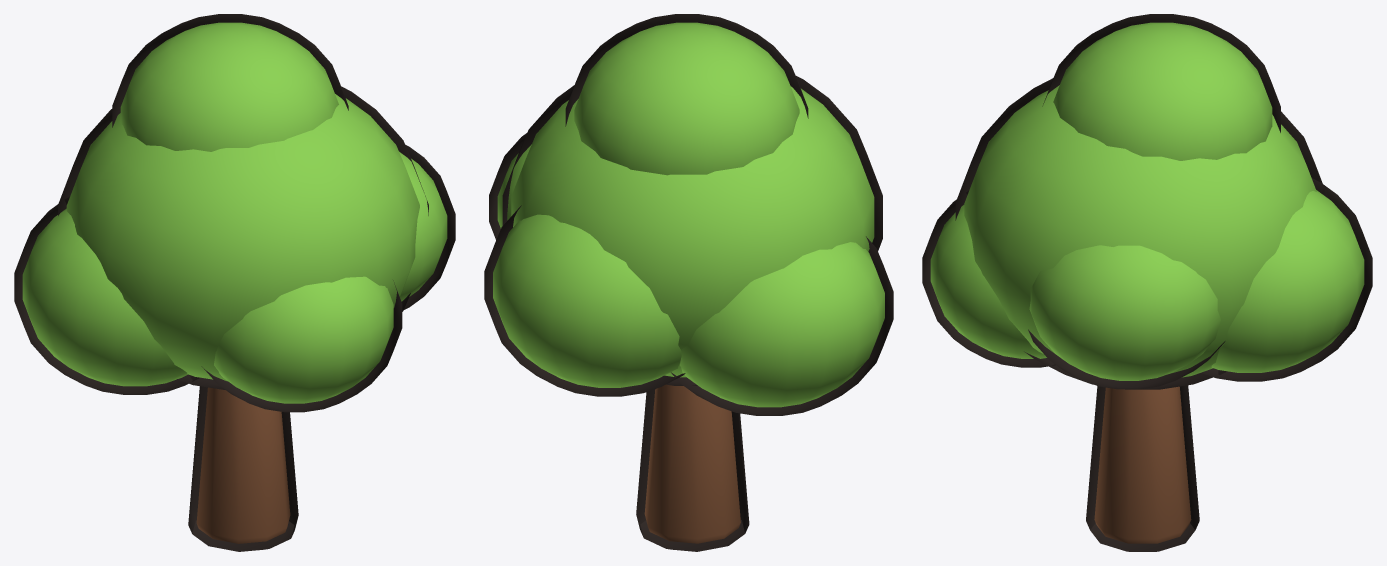
The model's file is Tree_Round_Light.fbx.
3 renders of one model, left to right at view 1: azimuth 30°, elevation 25°; view 2: azimuth 150°, elevation 25°; view 3: azimuth 270°, elevation 25°, orthographic. The views are drawn at different scales.
Visible parts, largest first — view 1: PR_Tree_Round_Light_Leaf2, PR_Tree_Round_Light_Outline, PR_Tree_Round_Light_Trunk; view 2: PR_Tree_Round_Light_Leaf2, PR_Tree_Round_Light_Outline, PR_Tree_Round_Light_Trunk; view 3: PR_Tree_Round_Light_Leaf2, PR_Tree_Round_Light_Outline, PR_Tree_Round_Light_Trunk.
Boxes of the visible parts, box(x1,y1,x2,y2) form: PR_Tree_Round_Light_Leaf2: box(22, 22, 447, 403); PR_Tree_Round_Light_Outline: box(14, 14, 455, 551); PR_Tree_Round_Light_Trunk: box(196, 387, 290, 543); PR_Tree_Round_Light_Leaf2: box(493, 22, 884, 407); PR_Tree_Round_Light_Outline: box(484, 14, 893, 551); PR_Tree_Round_Light_Trunk: box(644, 384, 740, 543); PR_Tree_Round_Light_Leaf2: box(930, 22, 1364, 380); PR_Tree_Round_Light_Outline: box(922, 14, 1372, 551); PR_Tree_Round_Light_Trunk: box(1094, 386, 1191, 543).
Bounding box in the file's own units: 3.1 × 3.88 × 3.12.
